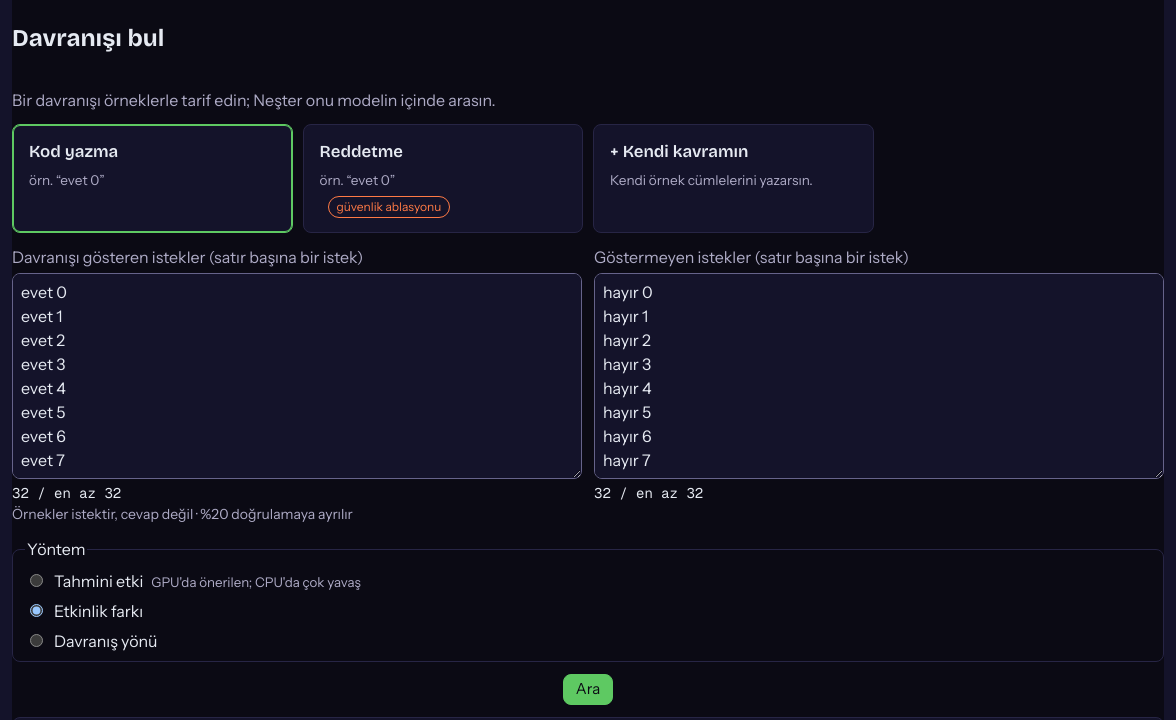
it: a card already seen on the server does not show again
Click the radio button labelled "Reddetme": (361, 151) [302,124,583,233]
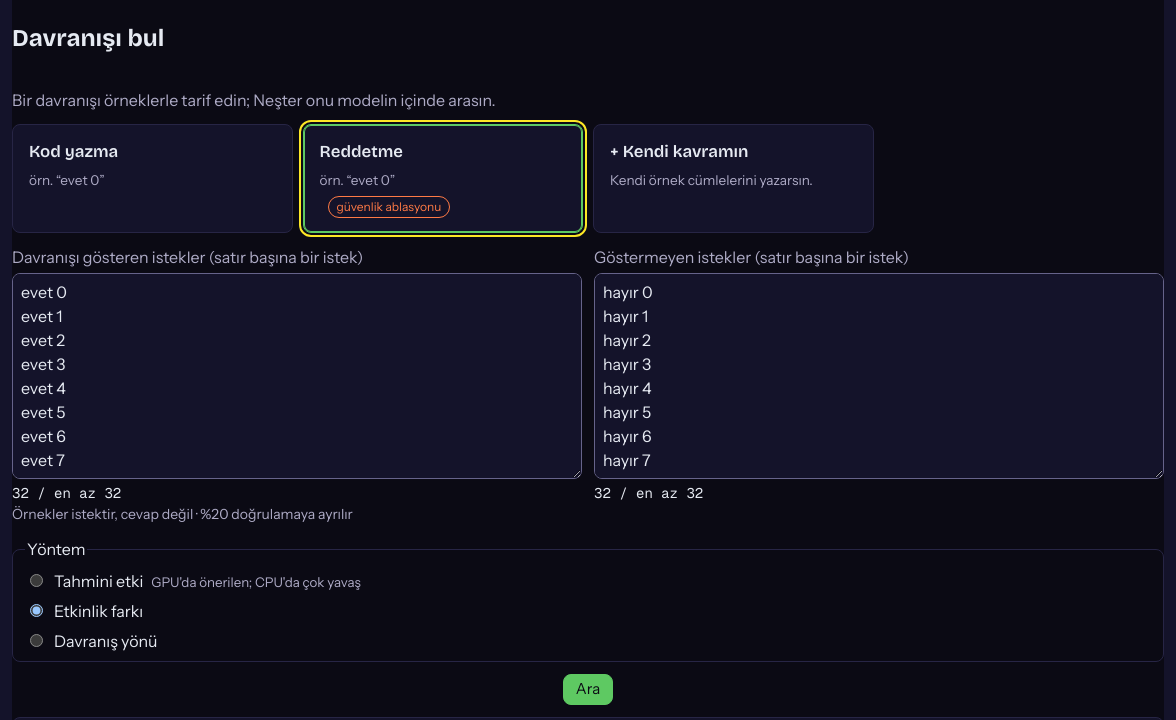
Check: the radio button labelled "Reddetme" is checked, box [302,124,583,233]
